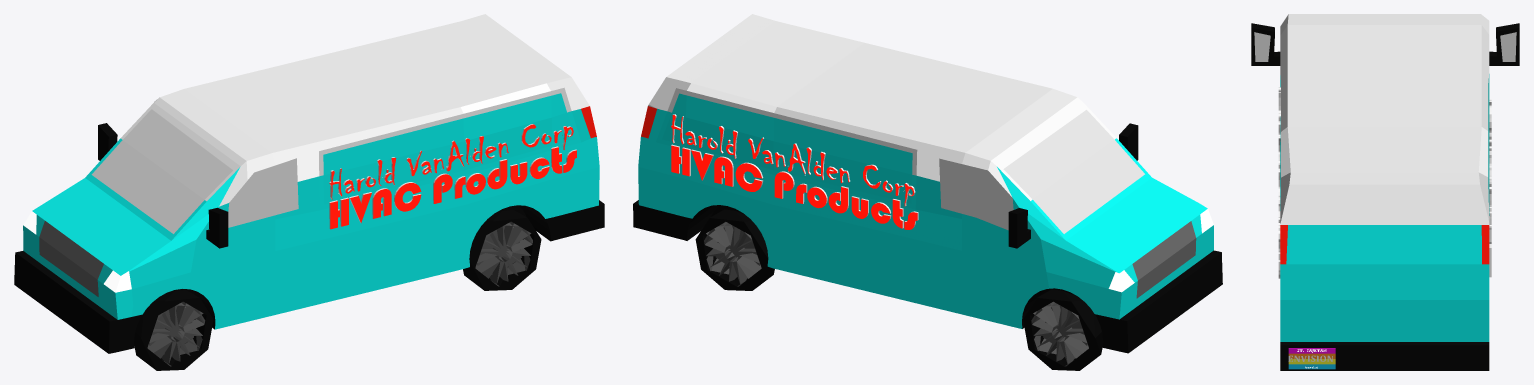
Rendered from HVAC Van.glb.
The picture shows the model from 3 angles, left to right: view 1: azimuth 30°, elevation 25°; view 2: azimuth 150°, elevation 25°; view 3: azimuth 270°, elevation 25°; orthographic projection. The views are drawn at different scales.
Parts seen in each view (by area): view 1: Van Body, Sign, FD Tire, RD Tire; view 2: Van Body, Sign, FP Tire, RP Tire; view 3: Van Body, Sign, St Cajetan License Plate.
Boxes of the visible parts, left/top/right/bottom form: Van Body: left=14, top=14, right=604, bottom=353; Sign: left=329, top=124, right=576, bottom=229; FD Tire: left=134, top=290, right=213, bottom=370; RD Tire: left=463, top=210, right=541, bottom=290; Van Body: left=633, top=14, right=1222, bottom=353; Sign: left=671, top=114, right=918, bottom=229; FP Tire: left=1023, top=289, right=1102, bottom=370; RP Tire: left=695, top=209, right=774, bottom=290; Van Body: left=1251, top=14, right=1519, bottom=370; Sign: left=1278, top=87, right=1491, bottom=278; St Cajetan License Plate: left=1288, top=348, right=1335, bottom=369.
Size of the model in its own units: 6.63 by 2.5 by 2.8.
